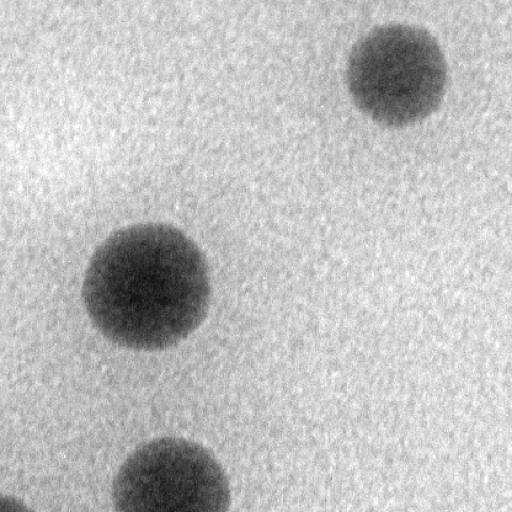Nanoparticles: (79, 224, 217, 350), (343, 22, 450, 132), (110, 435, 235, 512), (0, 494, 34, 512)
